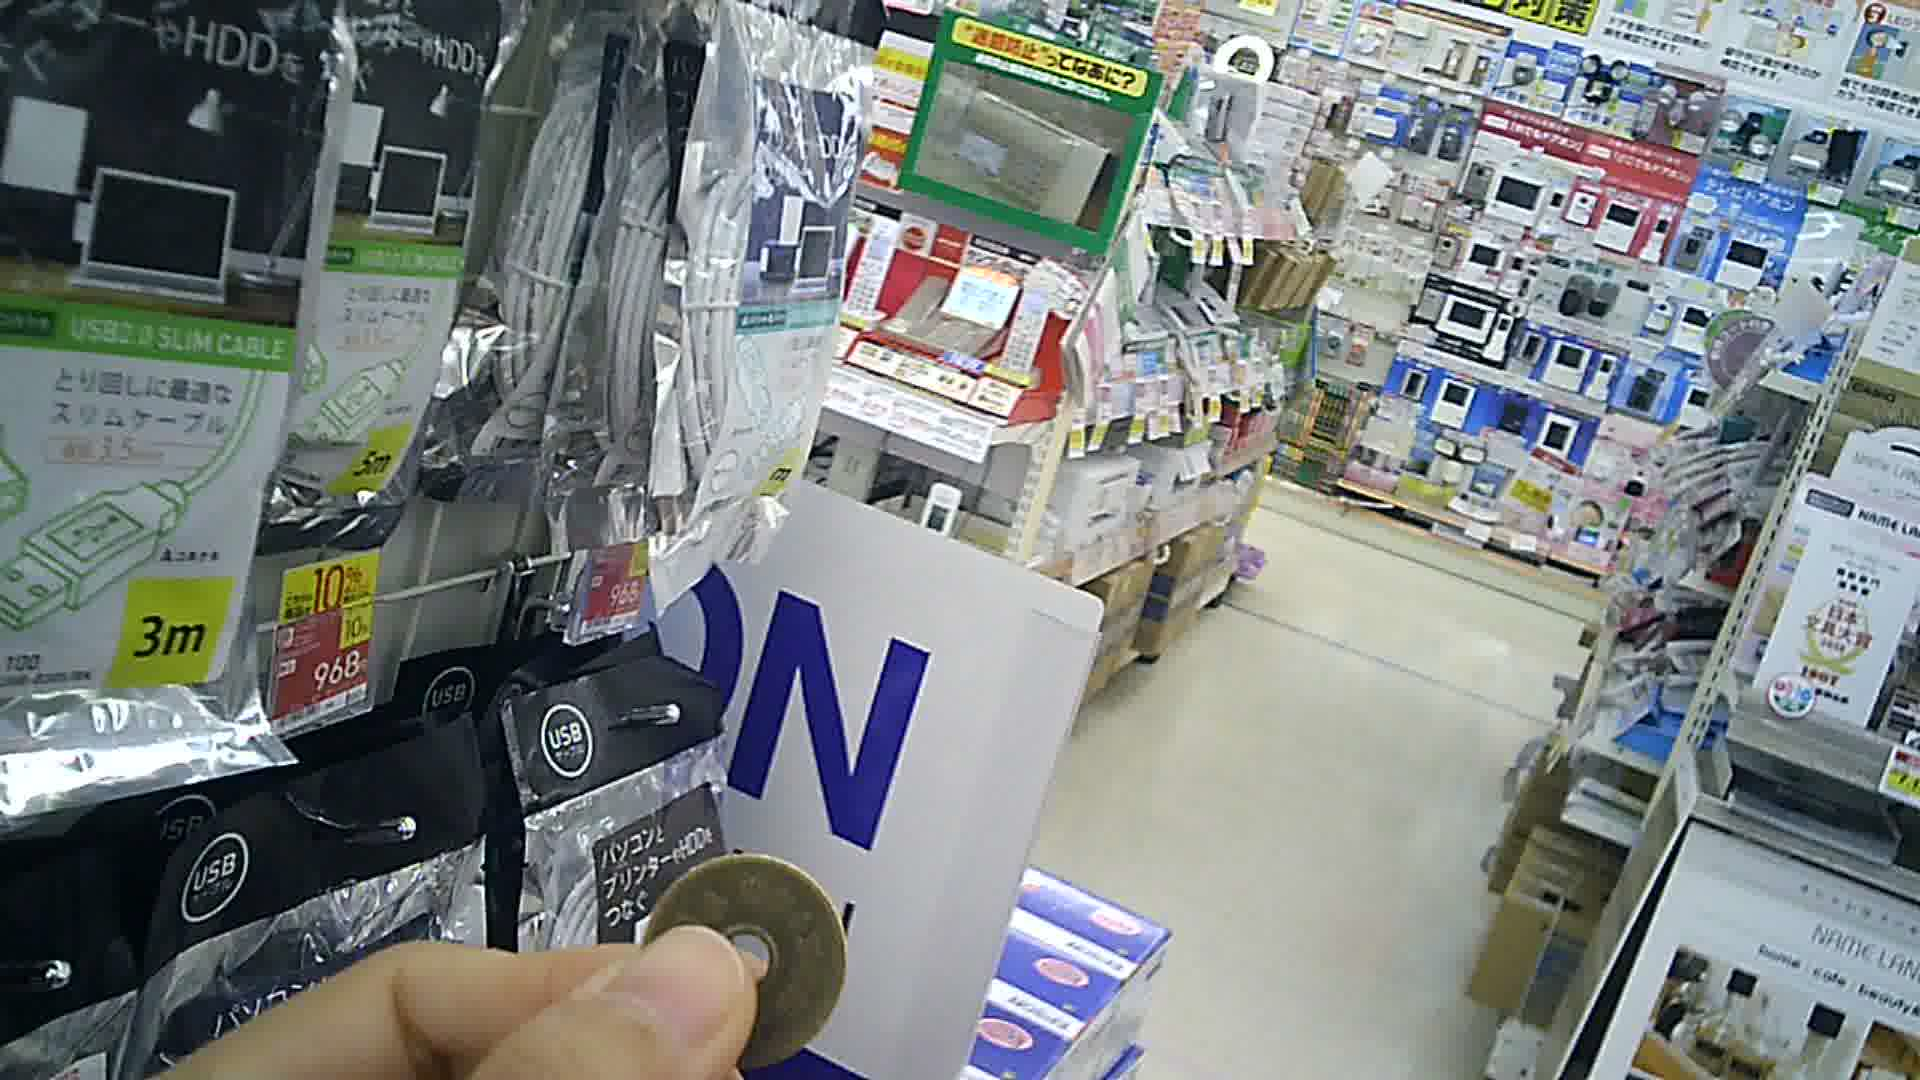5 Yen: (644, 848, 847, 1058)
